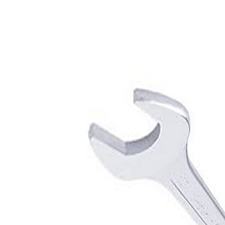wrench: (73, 72, 225, 225)
